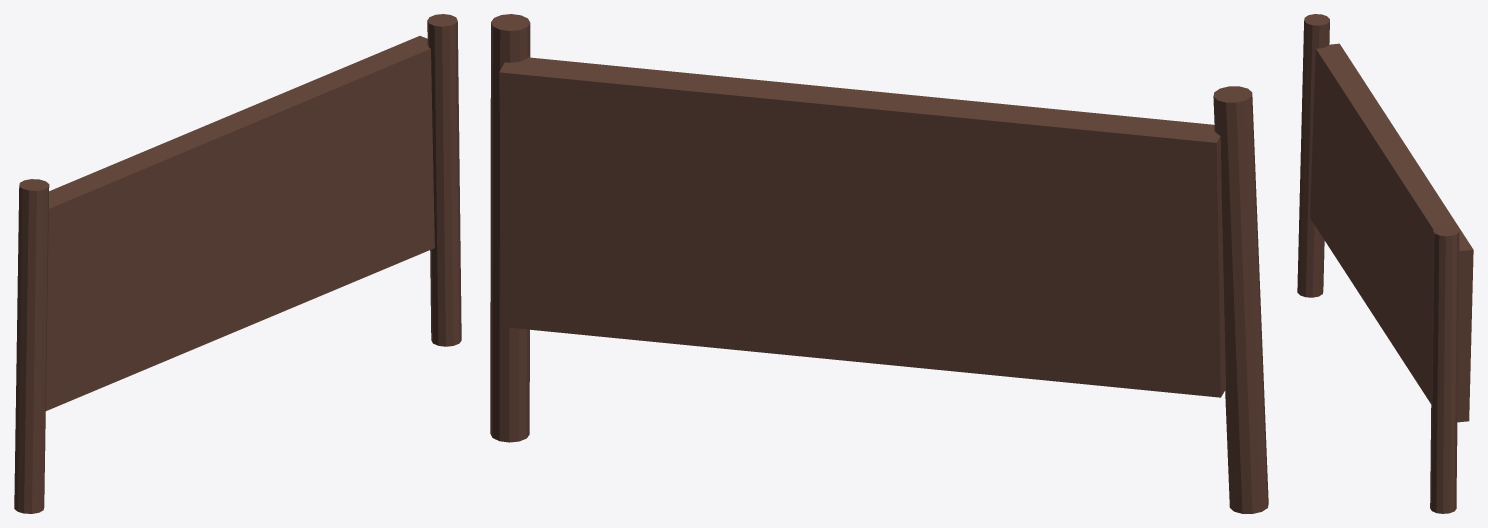
Rendered from Sign.glb.
The picture shows the model from 3 angles, left to right: view 1: azimuth 30°, elevation 25°; view 2: azimuth 150°, elevation 25°; view 3: azimuth 270°, elevation 25°; orthographic projection. The views are drawn at different scales.
Visible parts, largest first — view 1: node_MeshObject-825106432-PolyPaper20; view 2: node_MeshObject-825106432-PolyPaper20; view 3: node_MeshObject-825106432-PolyPaper20.
Part boxes in pixels (<box>): node_MeshObject-825106432-PolyPaper20: <box>14,14,461,513</box>; node_MeshObject-825106432-PolyPaper20: <box>490,14,1268,513</box>; node_MeshObject-825106432-PolyPaper20: <box>1297,14,1473,513</box>.
Bounding box in the file's own units: 1.58 × 0.9492 × 0.5338.
